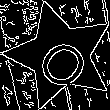O_NE: (26, 22, 94, 89)
